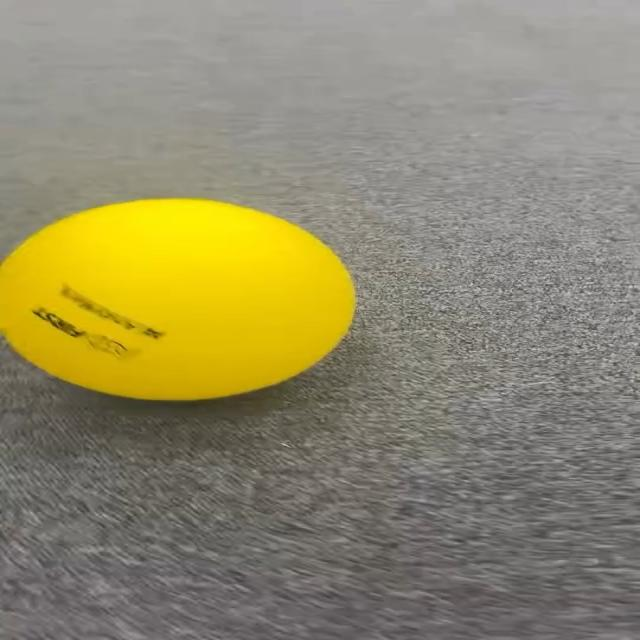Fuels: (2, 200, 355, 398)
